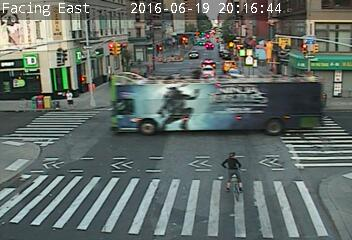neg: (212, 149, 254, 204), (155, 42, 166, 56), (221, 45, 231, 58)
pos: (60, 85, 78, 110)
